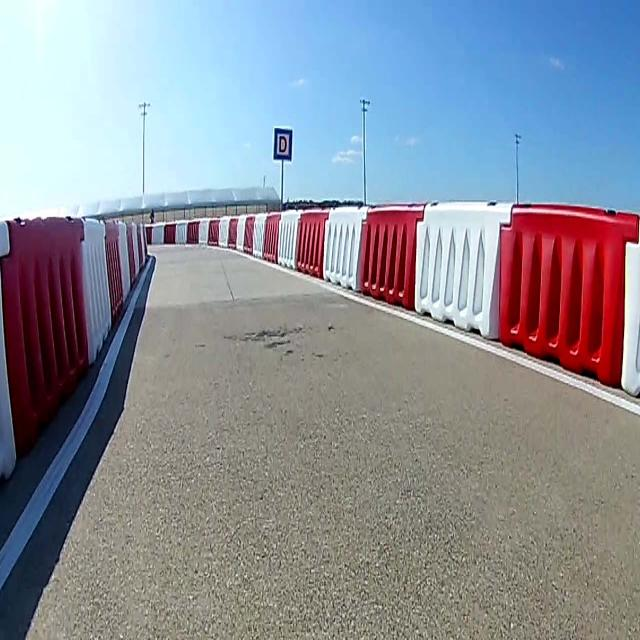durak: (274, 126, 292, 162)
